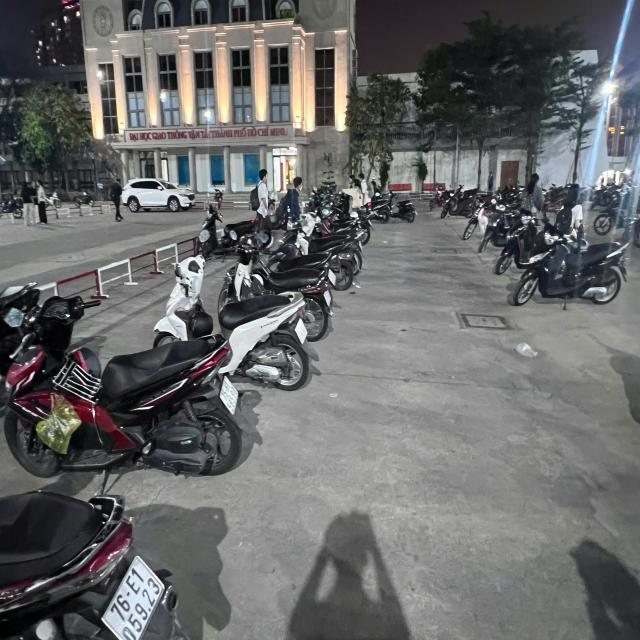motorcycle: (0, 284, 251, 482), (2, 487, 194, 640), (149, 257, 319, 395), (220, 239, 334, 347), (509, 219, 630, 307)
plate: (96, 553, 178, 640)
